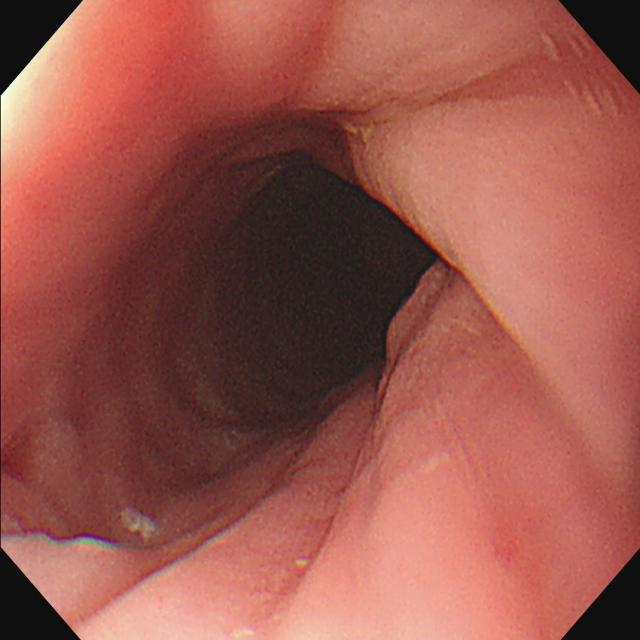E: (176, 143, 457, 447)
J: (122, 509, 159, 543)
